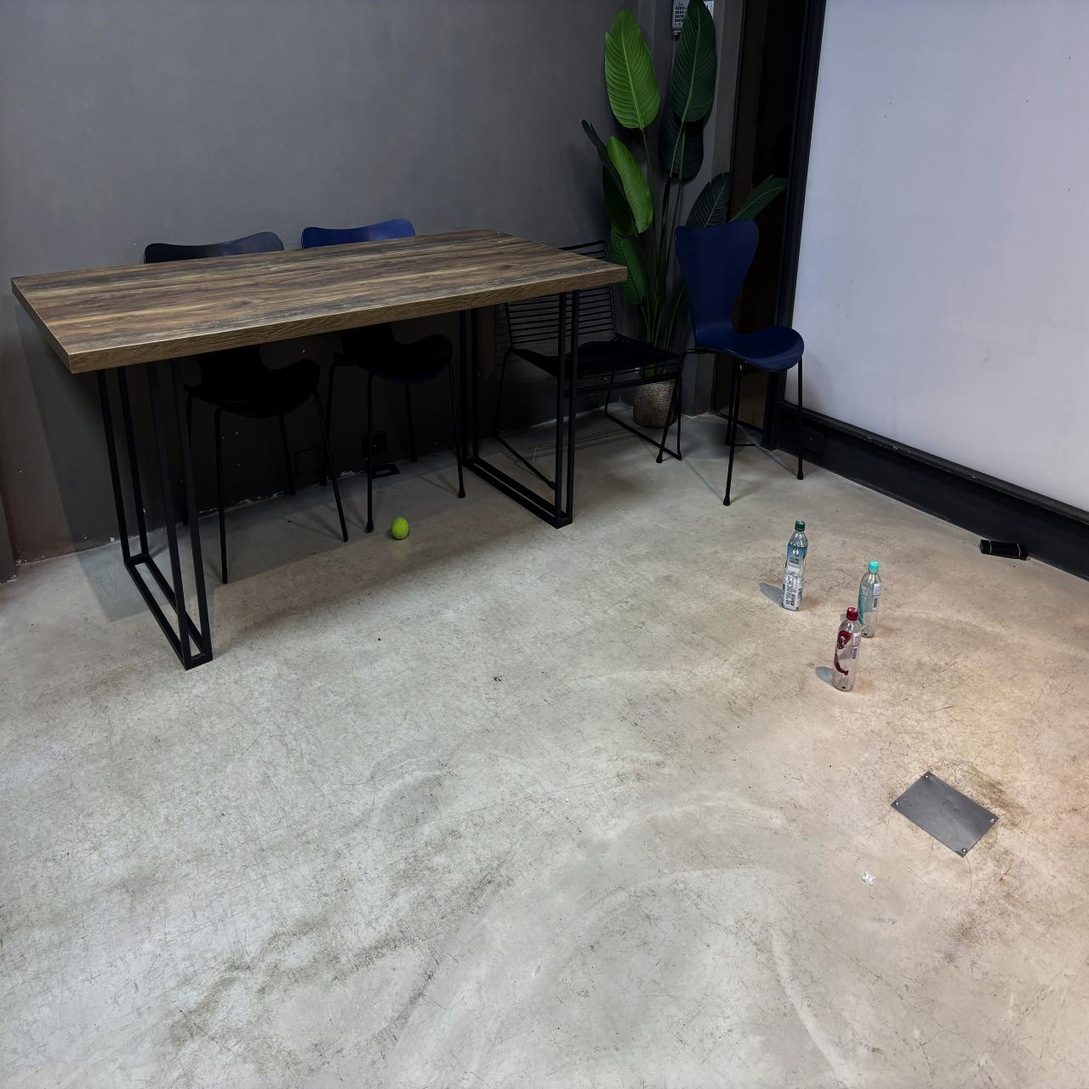plastic-bottle: (834, 607, 861, 691), (783, 521, 807, 610), (858, 561, 881, 637)
tennisball: (391, 517, 408, 539)
